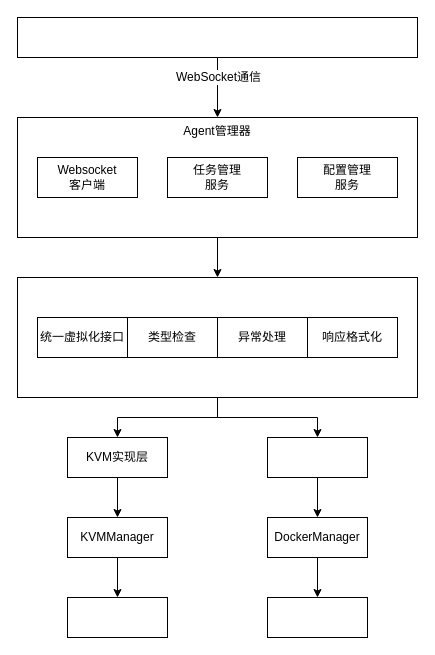
Image size: 435x655. Some labels were removed from this diagram. The box of each missing label's shape, as (x1, y1, x2, y2) in pixels:
Docker API (容器引擎): (266, 596, 368, 638)
Docker实现层: (266, 436, 368, 478)
libvirt API (QEMU/KVM): (66, 596, 168, 638)
上层应用/控制台: (16, 16, 418, 58)
虚拟化操作层: (16, 276, 418, 398)
